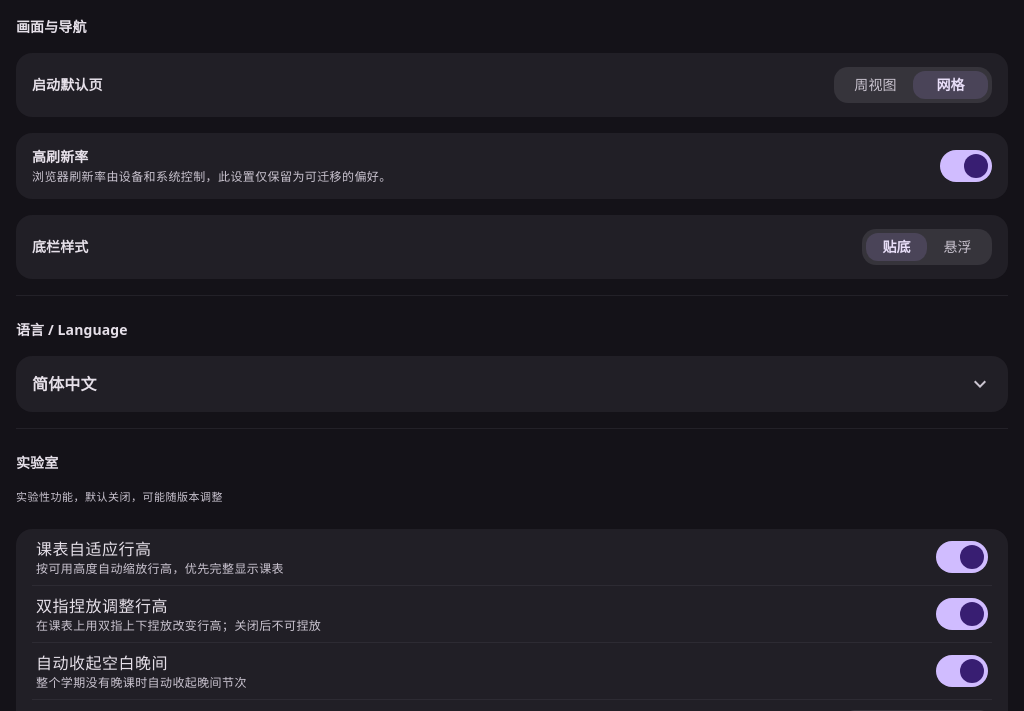
语言折叠卡 (Android 2026-09-21: 折叠头只显当前语言值 1:1) › 收起态只显当前语言, 展开显 5 项, 再点收回
(page scrolled)
Expected: the text "简体中文" is shown, [32,373,97,395]
Expected: the text "语言 / Language" is shown once, [16,320,128,339]
What coordinates should you click on to do the following:
click the button "简体中文"
I would click on:
 (64, 384)
Its box is [32,372,992,396].
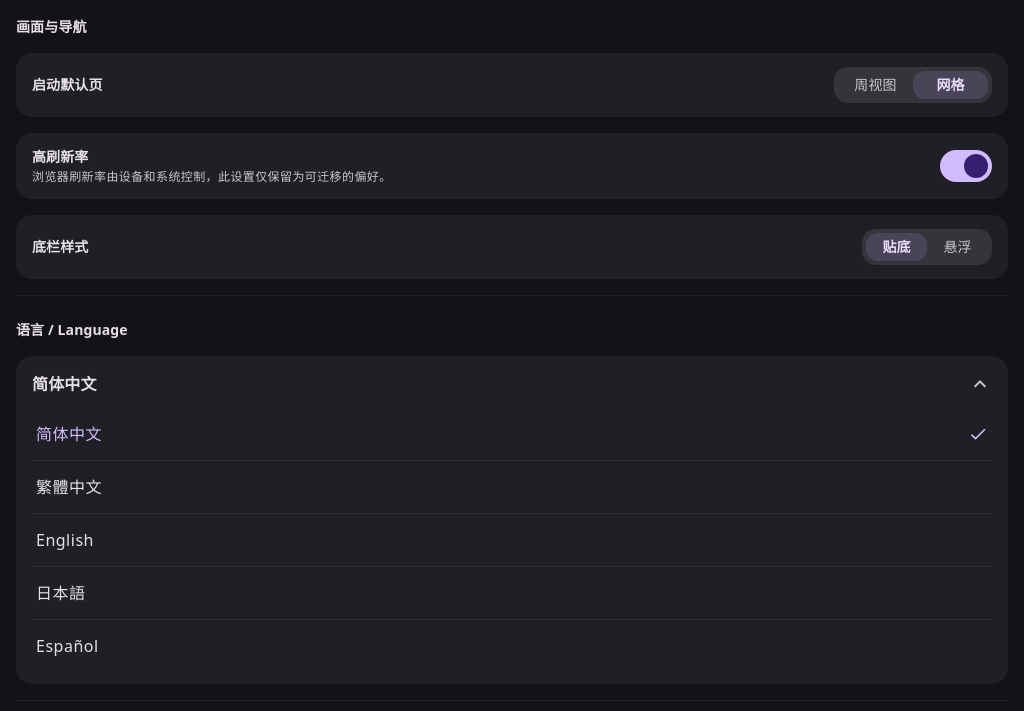
Expected: the text "English" is shown, [36,529,94,551]
Expected: the text "日本語" is shown, [36,582,86,604]
Expected: the text "Español" is shown, [36,635,99,657]
What coordinates should you click on to do the following:
click the button "简体中文"
I would click on:
 (64, 384)
Its box is [32,372,992,396].
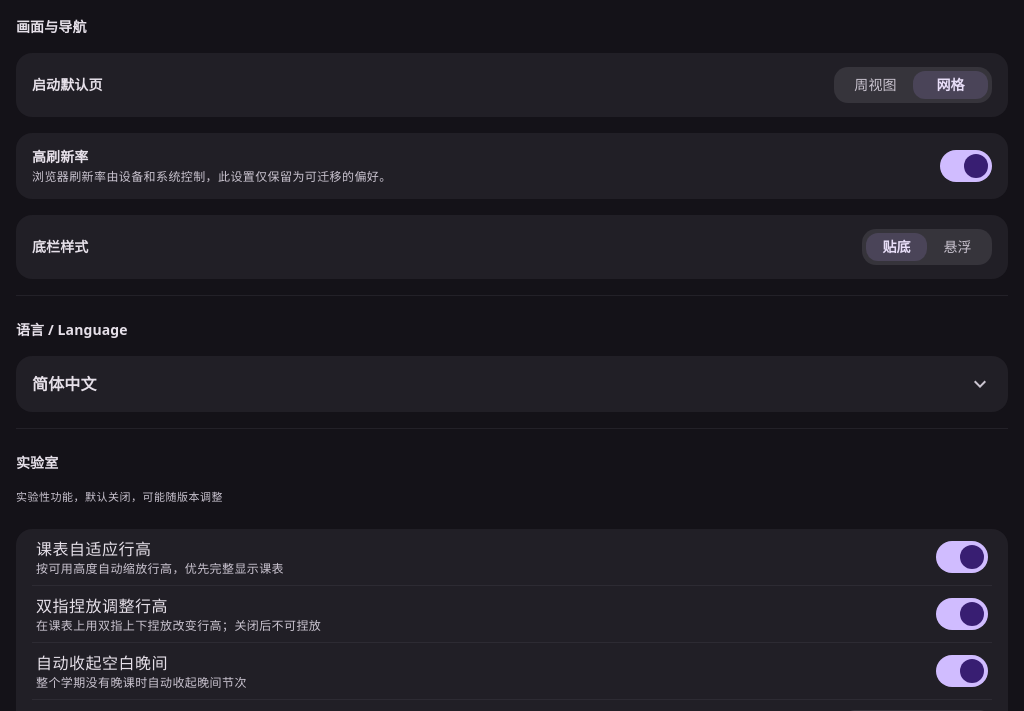
Expected: the radio button "English" is gone
